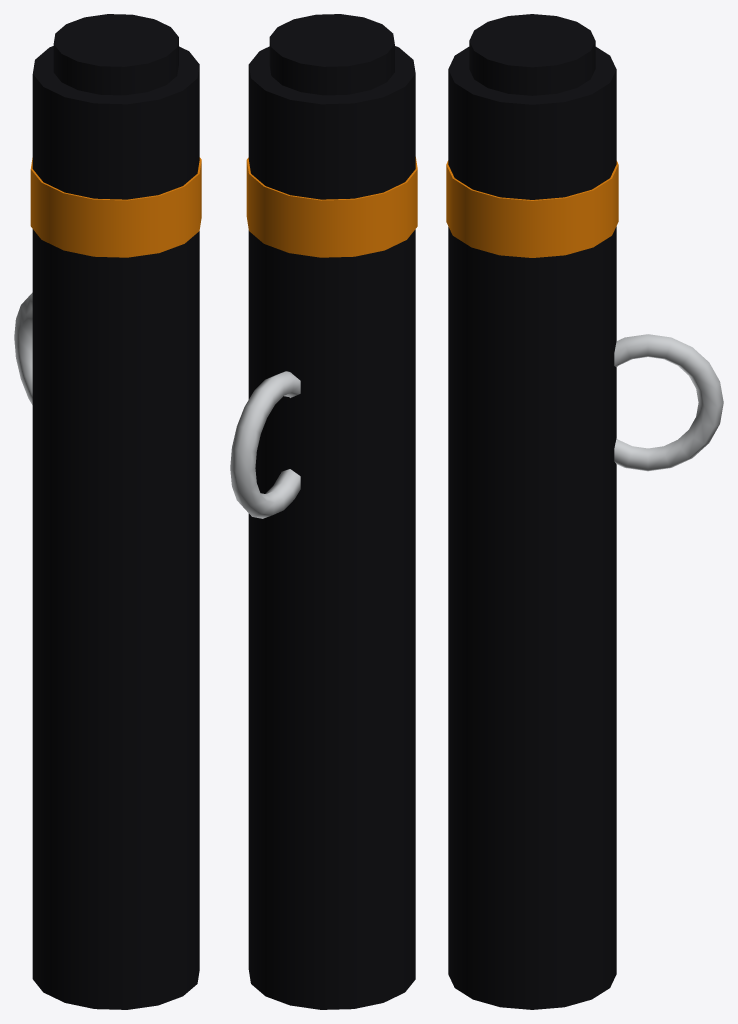
File: rack_wall.glb
3 views of the same model, side by side, from view 1: azimuth 30°, elevation 25°; view 2: azimuth 150°, elevation 25°; view 3: azimuth 270°, elevation 25° (orthographic).
Parts seen in each view (by area): view 1: rack_wall; view 2: rack_wall; view 3: rack_wall.
Boxes of the visible parts, x1=… form: rack_wall: x1=14, y1=14, x2=201, y2=1009; rack_wall: x1=230, y1=14, x2=417, y2=1009; rack_wall: x1=446, y1=14, x2=723, y2=1009.
Size of the model in its own units: 0.164 by 0.98 by 0.264.
